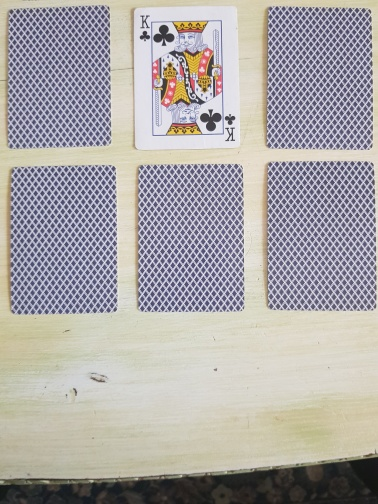king: (133, 6, 241, 151)
